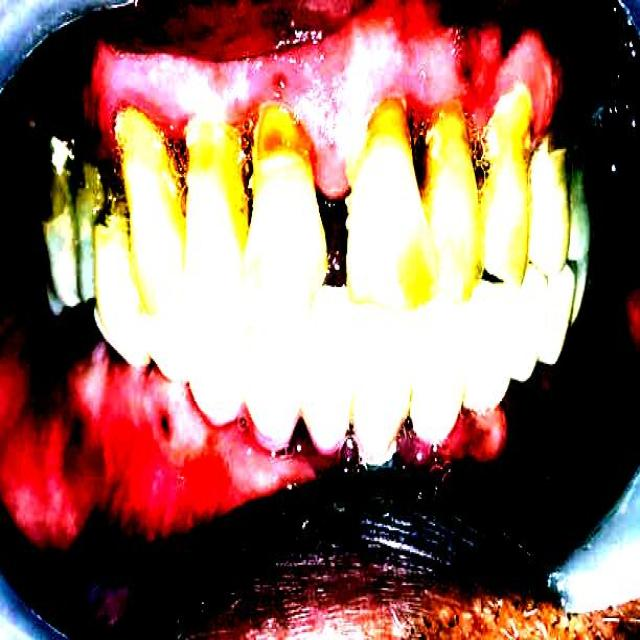caries: (248, 98, 318, 186), (84, 170, 133, 246), (40, 137, 75, 228)
